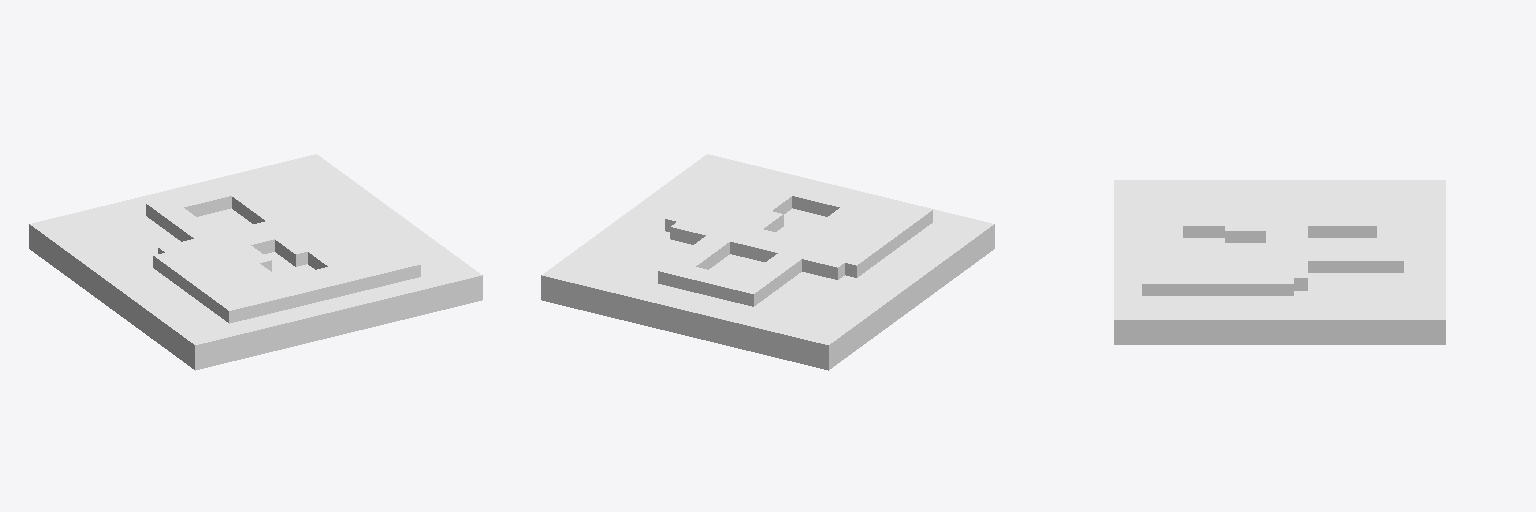
The model's file is bed-lock.obj.
The picture shows the model from 3 angles: view 1: azimuth 30°, elevation 25°; view 2: azimuth 150°, elevation 25°; view 3: azimuth 270°, elevation 25°; orthographic projection.
Visible parts, largest first — view 1: object 1; view 2: object 1; view 3: object 1.
Part boxes in pixels (x1,y1,x2,y2): object 1: (29,154,482,370); object 1: (541,154,994,370); object 1: (1114,180,1445,344).
Size of the model in its own units: 2.4 by 0.3 by 2.4.